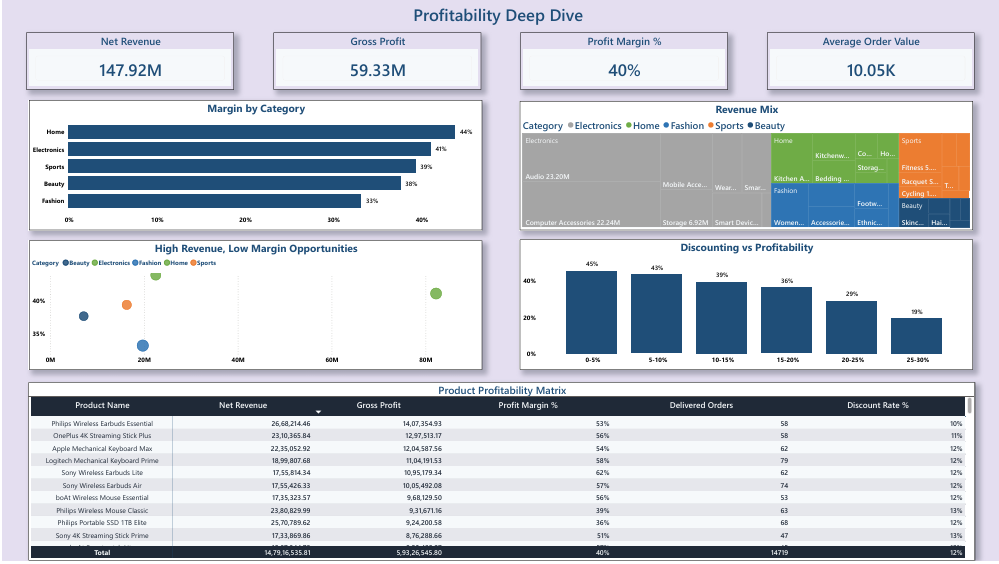

Layout of this report page (visuals, bound fields, positions):
{"tool":"powerbi","page":{"name":"Profitability Deep Dive","canvas":[1920,1080],"ordinal":1},"visuals":[{"type":"textbox","box":[785.9,0,348.2,61.7],"z":0},{"type":"cardVisual","title":"Net Revenue","fields":{"Data":["ProfitTrace Measures.Net Revenue"]},"box":[46.3,61.7,400,110],"z":1000},{"type":"cardVisual","title":"Gross Profit","fields":{"Data":["ProfitTrace Measures.Gross Profit"]},"box":[521.6,61.7,400,110],"z":2000},{"type":"cardVisual","title":"Profit Margin %","fields":{"Data":["ProfitTrace Measures.Profit Margin %"]},"box":[997,61.7,400,110],"z":3000},{"type":"cardVisual","title":"Average Order Value","fields":{"Data":["ProfitTrace Measures.AOV"]},"box":[1472.3,61.7,400,110],"z":4000},{"type":"clusteredBarChart","title":"Margin by Category","fields":{"Category":["DimProduct.category"],"Y":["ProfitTrace Measures.Profit Margin %"]},"box":[50.7,191.8,872.8,251.3],"z":5000},{"type":"treemap","title":"Revenue Mix","fields":{"Group":["DimProduct.category"],"Details":["DimProduct.subcategory"],"Values":["ProfitTrace Measures.Net Revenue"]},"box":[996.2,194,872.8,249.1],"z":6000},{"type":"scatterChart","title":"High Revenue, Low Margin Opportunities","fields":{"X":["ProfitTrace Measures.Net Revenue"],"Y":["ProfitTrace Measures.Profit Margin %"],"Size":["ProfitTrace Measures.Delivered Orders"],"Series":["DimProduct.category"]},"box":[50.7,462.9,872.8,249.1],"z":7000},{"type":"clusteredColumnChart","title":"Discounting vs Profitability","fields":{"Category":["Discount Bands.Discount Band"],"Y":["ProfitTrace Measures.Discount Band Profit Margin %"]},"box":[996.2,460.7,872.8,251.3],"z":8000},{"type":"pivotTable","title":"Product Profitability Matrix","fields":{"Rows":["DimProduct.product_name"],"Values":["ProfitTrace Measures.Net Revenue","ProfitTrace Measures.Gross Profit","ProfitTrace Measures.Profit Margin %","ProfitTrace Measures.Delivered Orders","ProfitTrace Measures.Discount Rate %"]},"box":[48.5,736.2,1822.8,343.8],"z":9000}]}

Visuals, with their boxes in screenshot pixels (x1, y1, x2, y2), scaled from the page's 1920x1080 canvas onto the 999x564 screenshot:
textbox: BBox(409, 0, 590, 32)
"Net Revenue" cardVisual: BBox(24, 32, 232, 90)
"Gross Profit" cardVisual: BBox(271, 32, 480, 90)
"Profit Margin %" cardVisual: BBox(519, 32, 727, 90)
"Average Order Value" cardVisual: BBox(766, 32, 974, 90)
"Margin by Category" clusteredBarChart: BBox(26, 100, 481, 231)
"Revenue Mix" treemap: BBox(518, 101, 972, 231)
"High Revenue, Low Margin Opportunities" scatterChart: BBox(26, 242, 481, 372)
"Discounting vs Profitability" clusteredColumnChart: BBox(518, 241, 972, 372)
"Product Profitability Matrix" pivotTable: BBox(25, 384, 974, 563)
